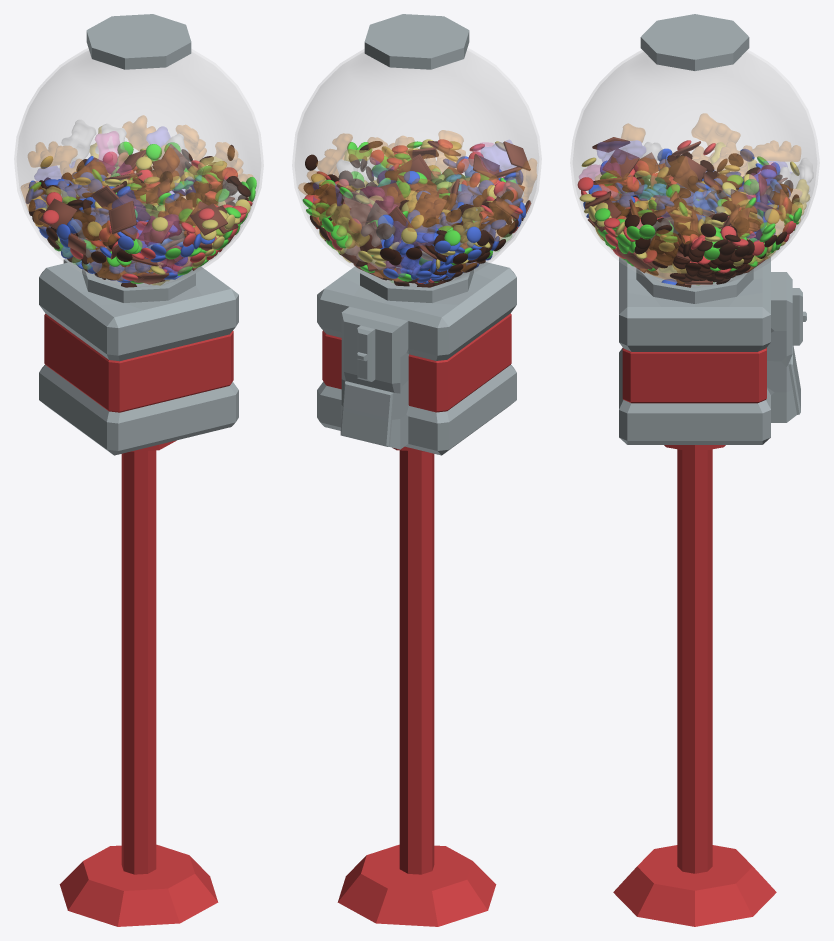
Rendered from alley_candy.glb.
3 views of the same model, side by side, from view 1: azimuth 30°, elevation 25°; view 2: azimuth 150°, elevation 25°; view 3: azimuth 270°, elevation 25° (orthographic).
Visible parts, largest first — view 1: Sphere Glass, plastic, metal, marmalade.B.007, object 830, object 847, object 844, object 834, object 836, marmalade.B, object 832, marmalade.001 (+10 smaller); view 2: Sphere Glass, plastic, metal, marmalade.001, object 832, marmalade.004, object 845, object 833, object 844, marmalade.B.001, object 847, object 843 (+13 smaller); view 3: Sphere Glass, plastic, metal, object 846, object 831, object 847, object 843, object 845, object 828, marmalade.A.001, object 836, object 844 (+7 smaller).
Boxes of the visible parts, x1,y1,x2,y2 form: Sphere Glass: [14, 49, 263, 286]; plastic: [44, 313, 233, 926]; metal: [39, 14, 238, 455]; marmalade.B.007: [95, 131, 131, 177]; object 830: [73, 208, 118, 249]; object 847: [150, 145, 179, 191]; object 844: [28, 141, 77, 167]; object 834: [193, 165, 227, 206]; object 836: [60, 159, 108, 183]; marmalade.B: [136, 214, 181, 248]; object 832: [158, 192, 202, 220]; marmalade.001: [61, 120, 95, 164]; Sphere Glass: [292, 49, 541, 286]; plastic: [322, 313, 511, 926]; metal: [317, 14, 516, 455]; marmalade.001: [350, 200, 395, 246]; object 832: [435, 130, 465, 174]; marmalade.004: [336, 159, 378, 188]; object 845: [479, 190, 519, 234]; object 833: [457, 170, 497, 206]; object 844: [407, 198, 436, 233]; marmalade.B.001: [330, 204, 369, 248]; object 847: [385, 136, 414, 181]; object 843: [311, 181, 336, 225]; Sphere Glass: [570, 50, 819, 288]; plastic: [613, 347, 776, 926]; metal: [619, 14, 806, 444]; object 846: [721, 189, 763, 238]; object 831: [665, 194, 702, 243]; object 847: [662, 156, 703, 197]; object 843: [766, 184, 801, 232]; object 845: [691, 113, 740, 150]; object 828: [646, 229, 681, 266]; marmalade.A.001: [597, 140, 645, 164]; object 836: [713, 142, 752, 173]; object 844: [751, 140, 800, 161].
Bounding box in the file's own units: 0.3432 × 1.3 × 0.3432.
